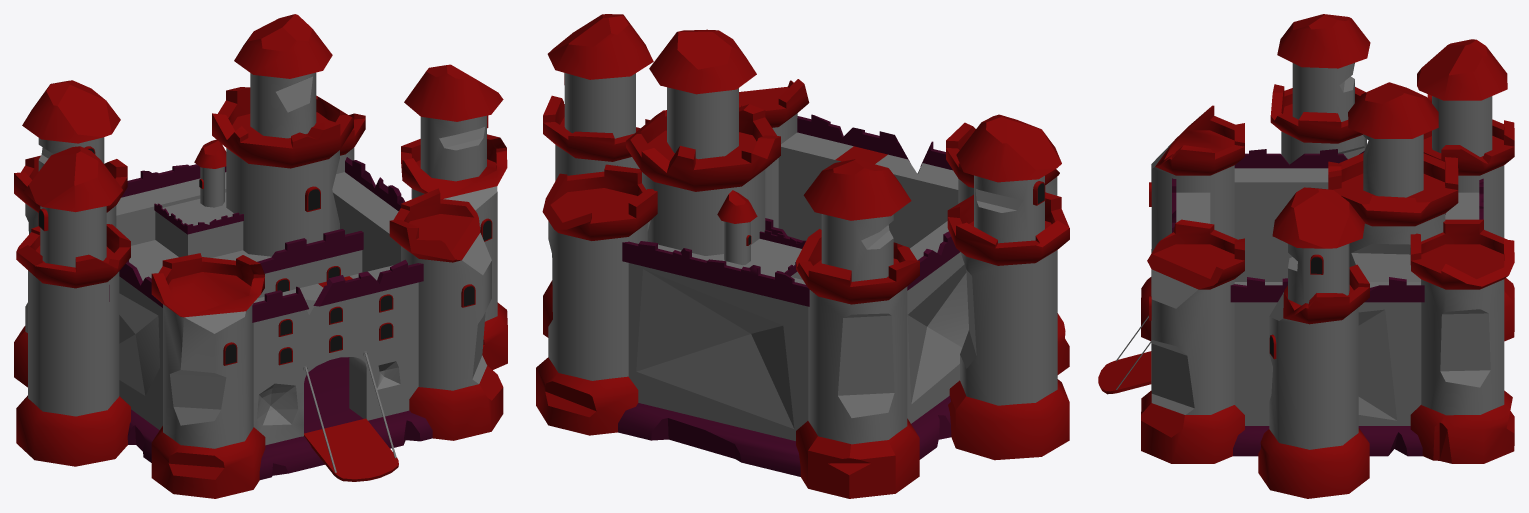
File: Evil_Castle_Upgrade2_Stage2.fbx
3 renders of one model, left to right at view 1: azimuth 30°, elevation 25°; view 2: azimuth 150°, elevation 25°; view 3: azimuth 270°, elevation 25°, orthographic. The views are drawn at different scales.
Parts seen in each view (by area): view 1: Evil_Castle_Upgrade2_Stage_2; view 2: Evil_Castle_Upgrade2_Stage_2; view 3: Evil_Castle_Upgrade2_Stage_2.
Boxes of the visible parts, x1,y1,x2,y2 form: Evil_Castle_Upgrade2_Stage_2: (14,14,507,498); Evil_Castle_Upgrade2_Stage_2: (536,14,1069,498); Evil_Castle_Upgrade2_Stage_2: (1098,14,1514,498).
Size of the model in its own units: 1191 by 806 by 927.
Materials: 1 (1 with a texture image).
